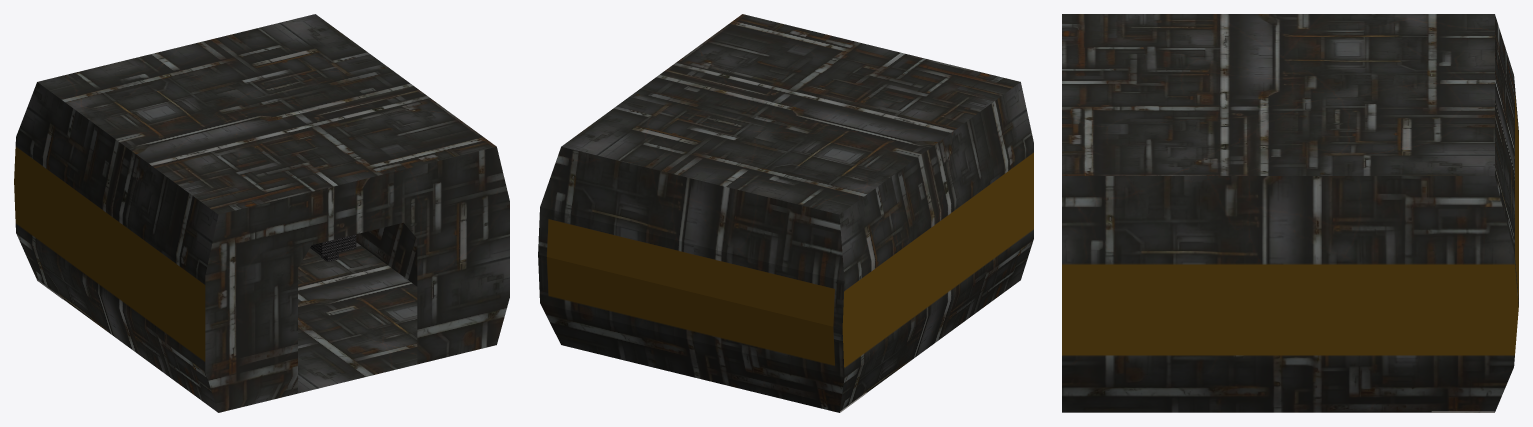
Rendered from controlRoom.fbx.
3 views of the same model, side by side, from view 1: azimuth 30°, elevation 25°; view 2: azimuth 150°, elevation 25°; view 3: azimuth 270°, elevation 25° (orthographic). The views are drawn at different scales.
Parts seen in each view (by area): view 1: whitebox:controlRoom; view 2: whitebox:controlRoom; view 3: whitebox:controlRoom.
Part boxes in pixels (<box>): whitebox:controlRoom: <box>14,14,509,412</box>; whitebox:controlRoom: <box>538,14,1033,412</box>; whitebox:controlRoom: <box>1062,14,1518,412</box>.
Bounding box in the file's own units: 6.65 × 4.14 × 7.24.
